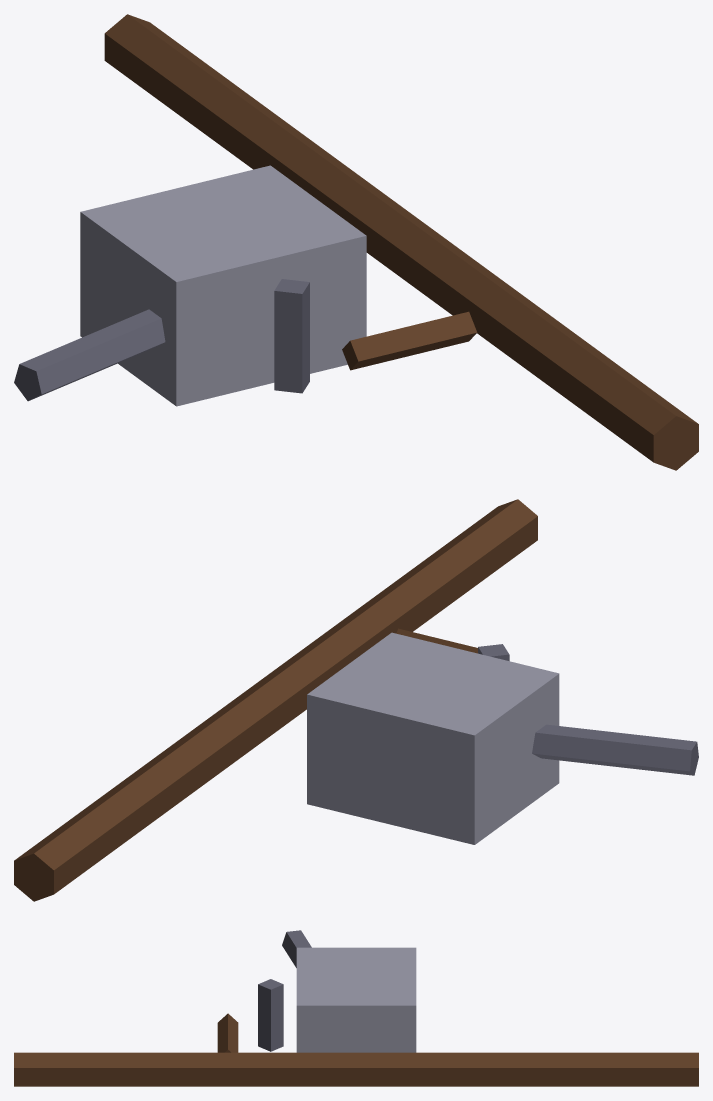
File: water_can_stand.obj
The picture shows the model from 3 angles, top to bottom: view 1: azimuth 30°, elevation 25°; view 2: azimuth 150°, elevation 25°; view 3: azimuth 270°, elevation 25°; orthographic projection. The views are drawn at different scales.
Parts seen in each view (by area): view 1: water_can_stand; view 2: water_can_stand; view 3: water_can_stand.
Part boxes in pixels (box(x1,y1,x2,y2)): water_can_stand: box(14, 14, 698, 470); water_can_stand: box(14, 499, 698, 901); water_can_stand: box(14, 930, 698, 1086).
Size of the model in its own units: 0.3797 by 0.1 by 0.8.
